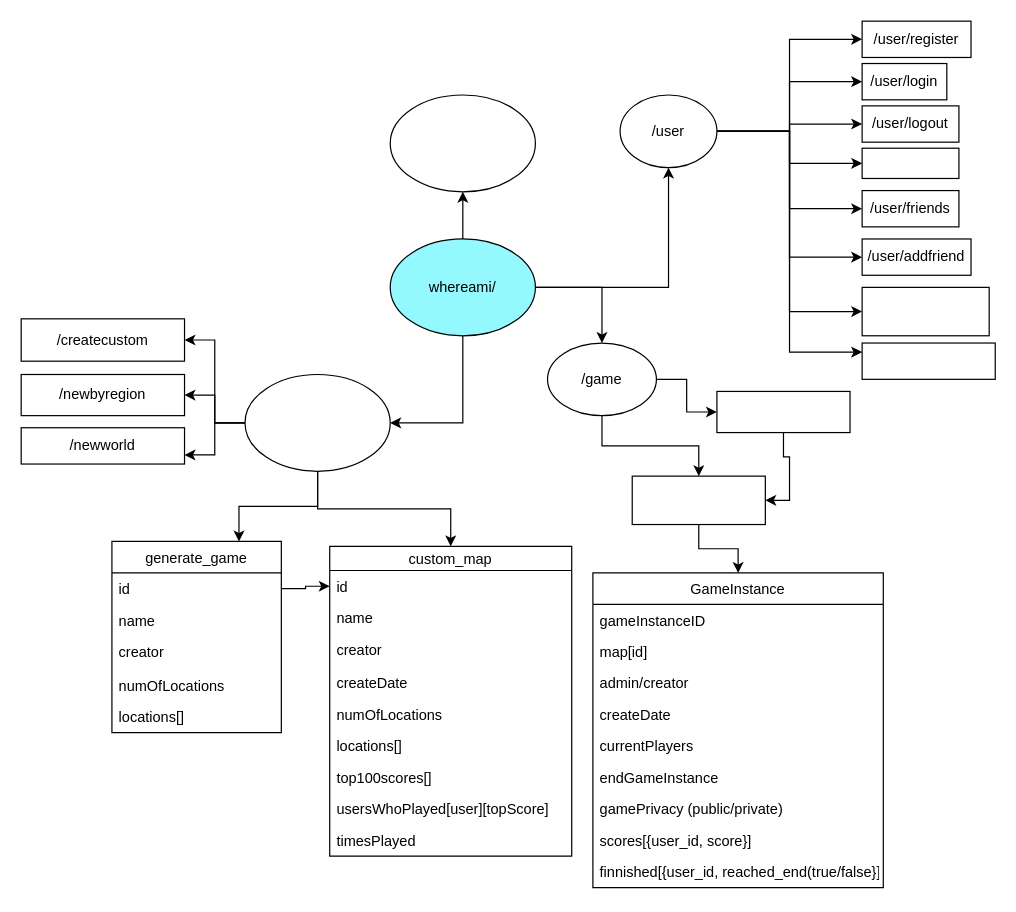
This 1016x912 diagram has some shape labels left out. The shapes that lost their labels are listed below. From the top down, each one's centre as x and y in pixels, then its label:
At pixel 462 143: "/groups".
At pixel 910 162: "/user/delete".
At pixel 925 311: "/user/historygames".
At pixel 928 360: "/user/mapscreated".
At pixel 317 422: "/map".
At pixel 783 411: "/createnewgame".
At pixel 698 500: "/{gameInstanceID}".
